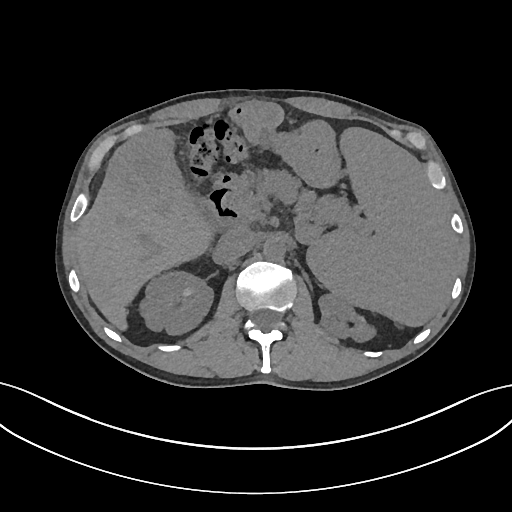Lesion: (179, 283, 199, 299)
